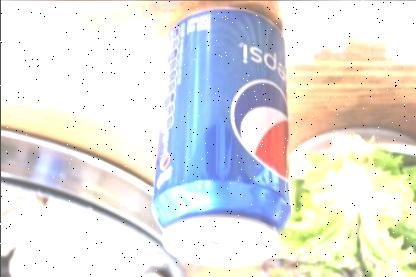Can: (150, 4, 292, 262)
